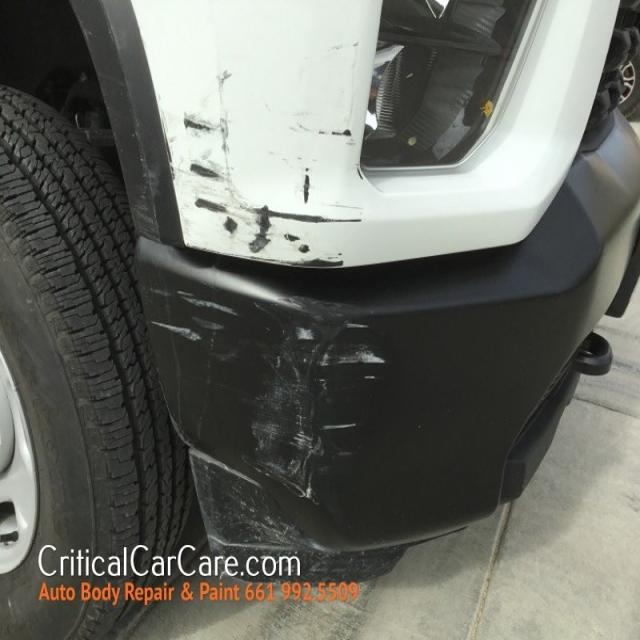scratch: (191, 284, 391, 565), (155, 66, 364, 269), (148, 279, 243, 370), (289, 109, 356, 147), (302, 165, 313, 204), (328, 202, 364, 213), (328, 40, 361, 52), (355, 163, 365, 185)
